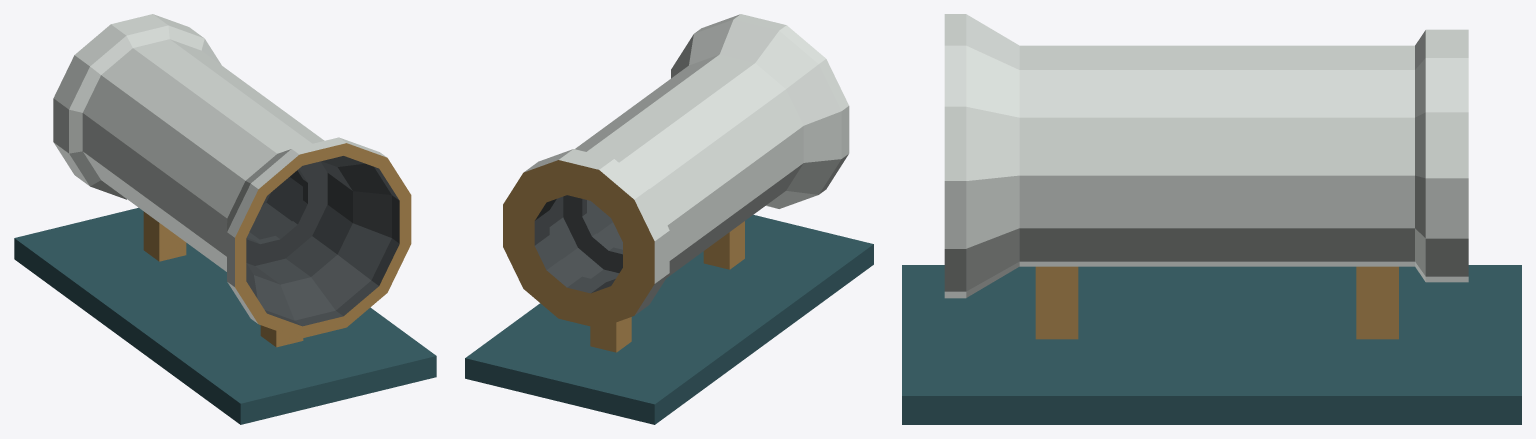
3 views of the same model, side by side, from view 1: azimuth 30°, elevation 25°; view 2: azimuth 150°, elevation 25°; view 3: azimuth 270°, elevation 25° (orthographic). The views are drawn at different scales.
Parts seen in each view (by area): view 1: ContinuousThreeBaffleHood, GroundedHoodDisplayBase, CompleteHoodPedestal_1, CompleteHoodPedestal_0; view 2: ContinuousThreeBaffleHood, GroundedHoodDisplayBase, CompleteHoodPedestal_0, CompleteHoodPedestal_1; view 3: ContinuousThreeBaffleHood, GroundedHoodDisplayBase, CompleteHoodPedestal_0, CompleteHoodPedestal_1.
Boxes of the visible parts, x1=… form: ContinuousThreeBaffleHood: x1=53, y1=14, x2=411, y2=338; GroundedHoodDisplayBase: x1=14, y1=207, x2=436, y2=424; CompleteHoodPedestal_1: x1=143, y1=211, x2=186, y2=261; CompleteHoodPedestal_0: x1=260, y1=325, x2=303, y2=347; ContinuousThreeBaffleHood: x1=503, y1=14, x2=849, y2=328; GroundedHoodDisplayBase: x1=465, y1=215, x2=873, y2=424; CompleteHoodPedestal_0: x1=703, y1=221, x2=744, y2=269; CompleteHoodPedestal_1: x1=590, y1=317, x2=631, y2=352; ContinuousThreeBaffleHood: x1=944, y1=14, x2=1468, y2=298; GroundedHoodDisplayBase: x1=902, y1=265, x2=1521, y2=424; CompleteHoodPedestal_0: x1=1035, y1=266, x2=1078, y2=339; CompleteHoodPedestal_1: x1=1356, y1=266, x2=1398, y2=339.
Size of the model in its own units: 0.58 by 0.6808 by 1.16.
